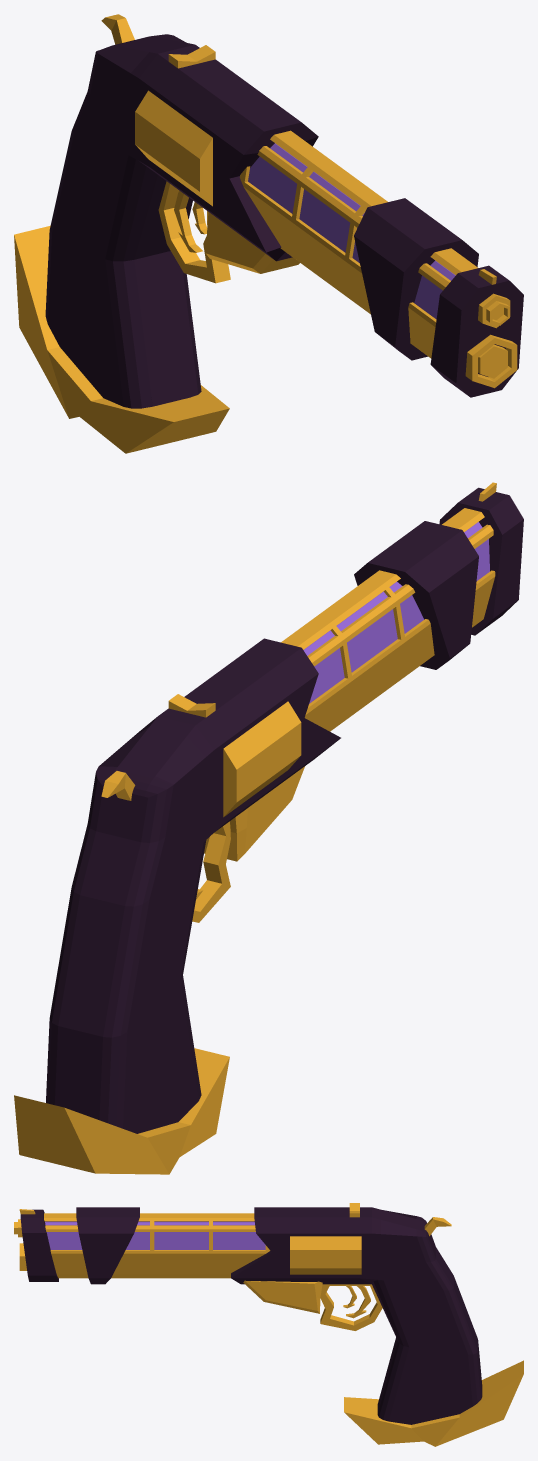
Rendered from Ian_ShotgunRevolver_Model.fbx.
3 renders of one model, top to bottom at view 1: azimuth 30°, elevation 25°; view 2: azimuth 150°, elevation 25°; view 3: azimuth 270°, elevation 25°, orthographic. The views are drawn at different scales.
Parts seen in each view (by area): view 1: Grip, Detail grip thing, Exoskeleton, Part, Muzzle, Revolver thing, Glass Part, Cube.001, Trigger guard, Shotgun Muzzle Part 1, Shotgun Muzzle Part 2, Trigger 2 (+3 smaller); view 2: Grip, Detail grip thing, Exoskeleton, Part, Revolver thing, Muzzle, Glass Part, Cube.001, Trigger guard; view 3: Grip, Exoskeleton, Detail grip thing, Part, Glass Part, Revolver thing, Muzzle, Cube.001, Trigger guard.
Boxes of the visible parts, x1,y1,x2,y2 form: Grip: [45, 34, 318, 408]; Detail grip thing: [14, 225, 229, 453]; Exoskeleton: [239, 130, 477, 358]; Part: [354, 198, 478, 360]; Muzzle: [430, 265, 523, 397]; Revolver thing: [135, 90, 212, 206]; Glass Part: [248, 143, 455, 319]; Cube.001: [205, 211, 299, 273]; Trigger guard: [158, 181, 230, 283]; Shotgun Muzzle Part 1: [465, 334, 517, 388]; Shotgun Muzzle Part 2: [478, 344, 507, 378]; Trigger 2: [174, 190, 202, 252]; Grip: [46, 638, 340, 1133]; Detail grip thing: [14, 1048, 229, 1174]; Exoskeleton: [281, 508, 495, 731]; Part: [354, 521, 478, 669]; Revolver thing: [223, 701, 301, 817]; Muzzle: [439, 487, 523, 635]; Glass Part: [303, 522, 489, 703]; Cube.001: [204, 766, 304, 861]; Trigger guard: [192, 821, 230, 922]; Grip: [231, 1207, 482, 1424]; Exoskeleton: [44, 1213, 270, 1278]; Detail grip thing: [344, 1360, 523, 1446]; Part: [76, 1207, 139, 1284]; Glass Part: [45, 1221, 265, 1249]; Revolver thing: [290, 1236, 361, 1274]; Muzzle: [20, 1209, 58, 1281]; Cube.001: [243, 1280, 322, 1313]; Trigger guard: [320, 1284, 382, 1330].
Bounding box in the file's own units: 3.8 × 14.56 × 29.87.
